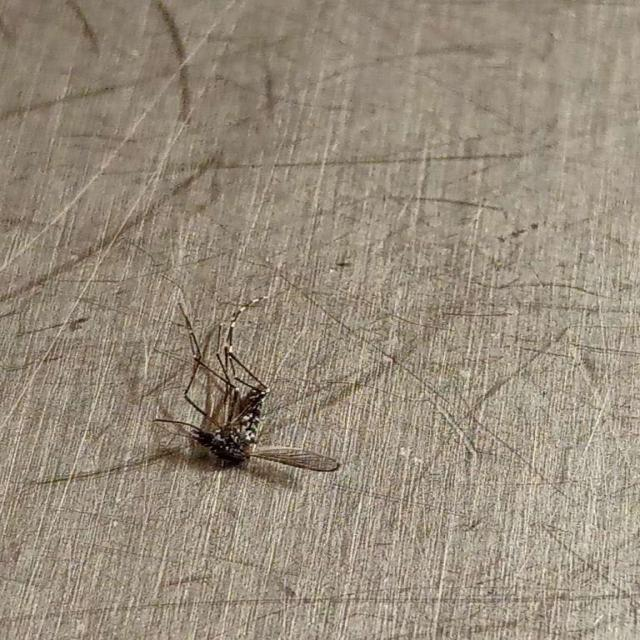albopictus: (133, 285, 342, 487)
